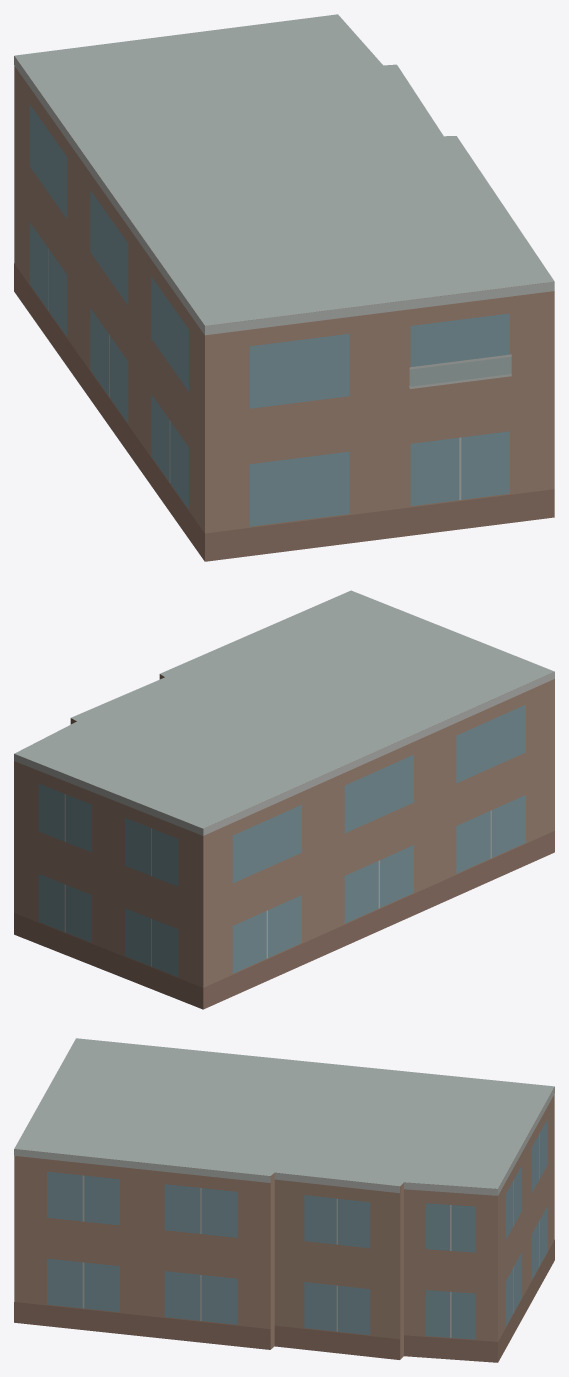
File: survey-upis-32816387.glb
3 renders of one model, top to bottom at view 1: azimuth 30°, elevation 25°; view 2: azimuth 150°, elevation 25°; view 3: azimuth 270°, elevation 25°, orthographic. The views are drawn at different scales.
Parts seen in each view (by area): view 1: survey-upis-32816387.tmp; view 2: survey-upis-32816387.tmp; view 3: survey-upis-32816387.tmp.
Boxes of the visible parts, x1=… form: survey-upis-32816387.tmp: x1=14, y1=14, x2=554, y2=561; survey-upis-32816387.tmp: x1=14, y1=590, x2=554, y2=1009; survey-upis-32816387.tmp: x1=14, y1=1038, x2=554, y2=1362.
Size of the model in its own units: 11.36 by 6.1 by 17.21.
